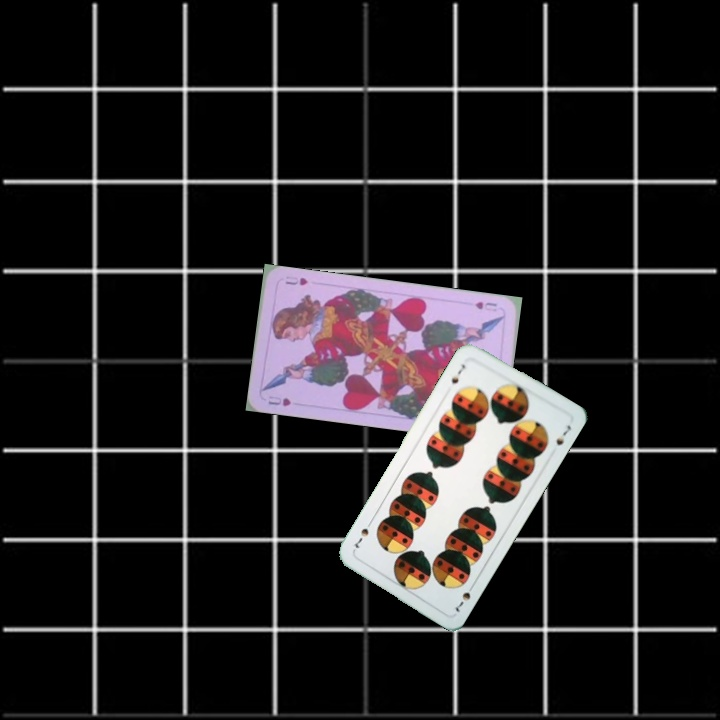HU: (264, 392, 294, 409), (471, 297, 500, 314)
S7: (451, 579, 477, 615), (447, 360, 468, 386)
